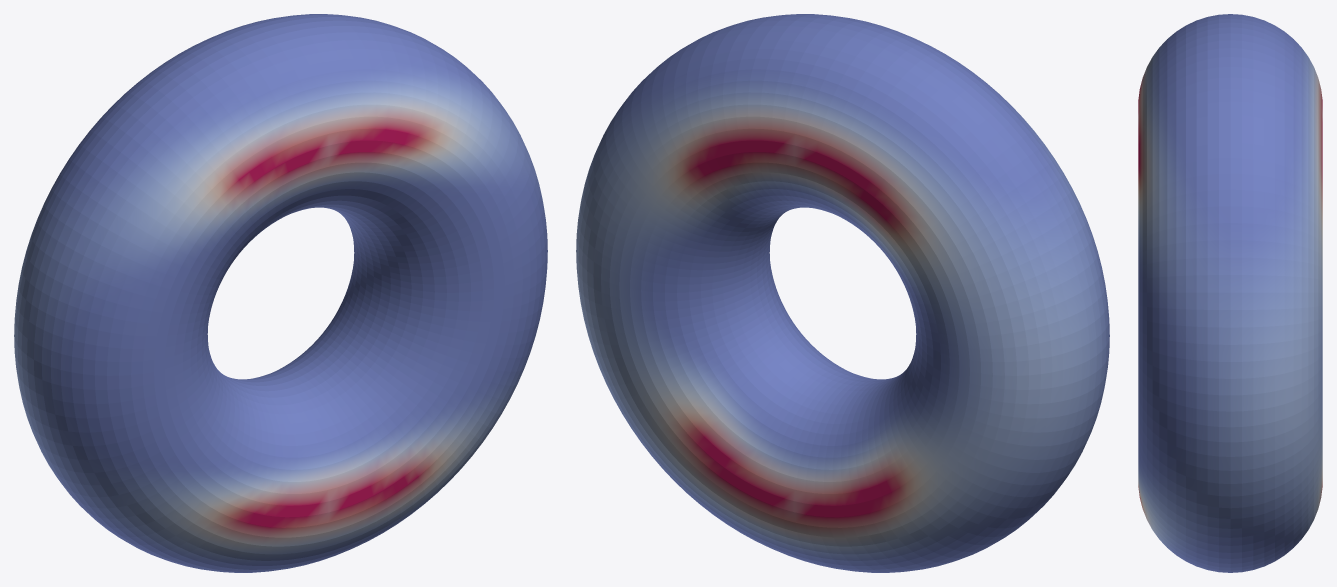
3 renders of one model, left to right at view 1: azimuth 30°, elevation 25°; view 2: azimuth 150°, elevation 25°; view 3: azimuth 270°, elevation 25°, orthographic. The views are drawn at different scales.
Visible parts, largest first — view 1: world; view 2: world; view 3: world.
Part boxes in pixels (<box>): world: <box>14,14,547,572</box>; world: <box>576,14,1109,572</box>; world: <box>1138,14,1322,572</box>.
Size of the model in its own units: 14.93 by 14.93 by 4.92.
